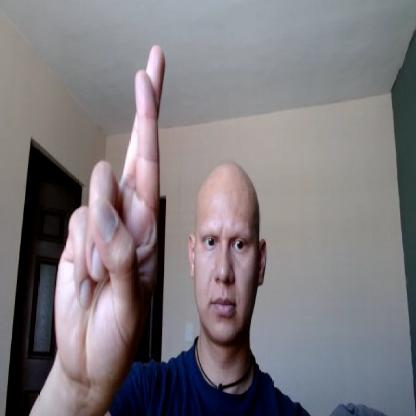R: (53, 44, 167, 382)
